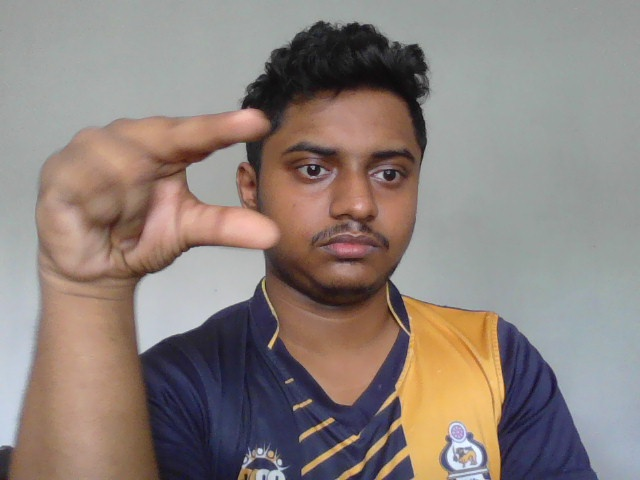No: (32, 105, 286, 282)
